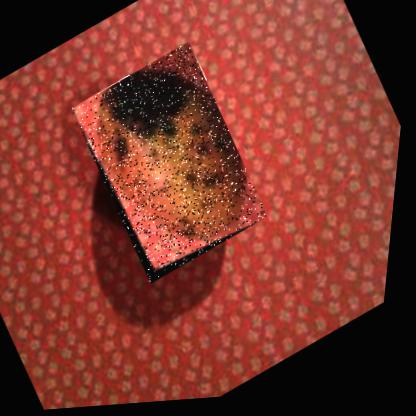mango_rotten: (58, 39, 285, 293)
